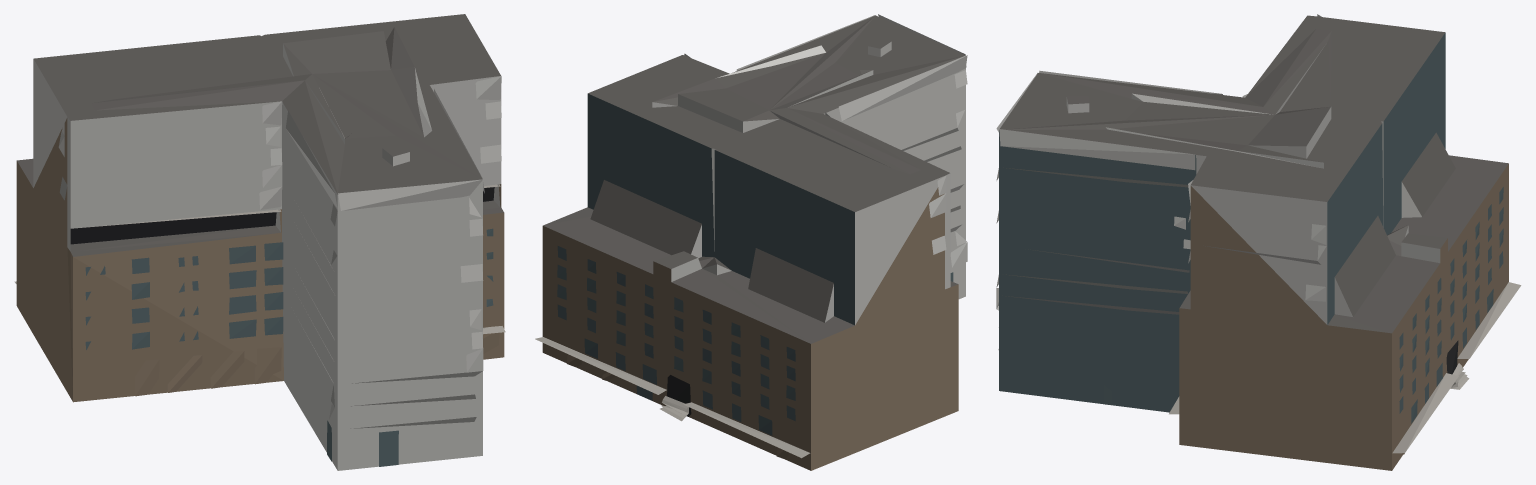
Rendered from pakhuis-afrika.lod2.glb.
3 views of the same model, side by side, from view 1: azimuth 30°, elevation 25°; view 2: azimuth 150°, elevation 25°; view 3: azimuth 270°, elevation 25° (orthographic). The views are drawn at different scales.
Visible parts, largest first — view 1: lod2; view 2: lod2; view 3: lod2.
Boxes of the visible parts, x1,y1,x2,y2 form: lod2: (14,14,505,470); lod2: (535,14,967,470); lod2: (996,14,1521,470).
Bounding box in the file's own units: 55.95 × 36.19 × 62.87.
